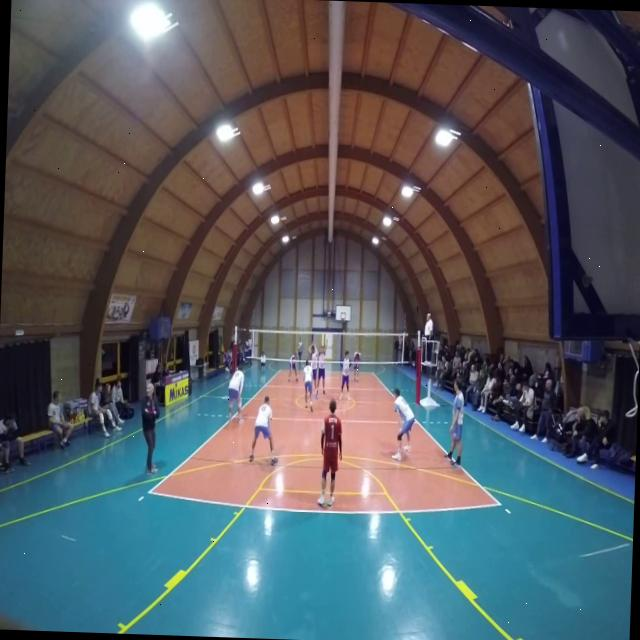serve: (296, 334, 304, 367)
